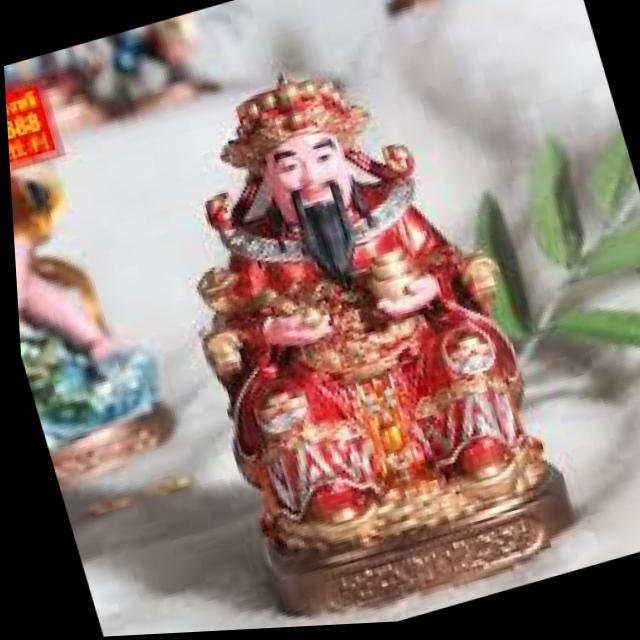Cai shen: (148, 30, 534, 567)
